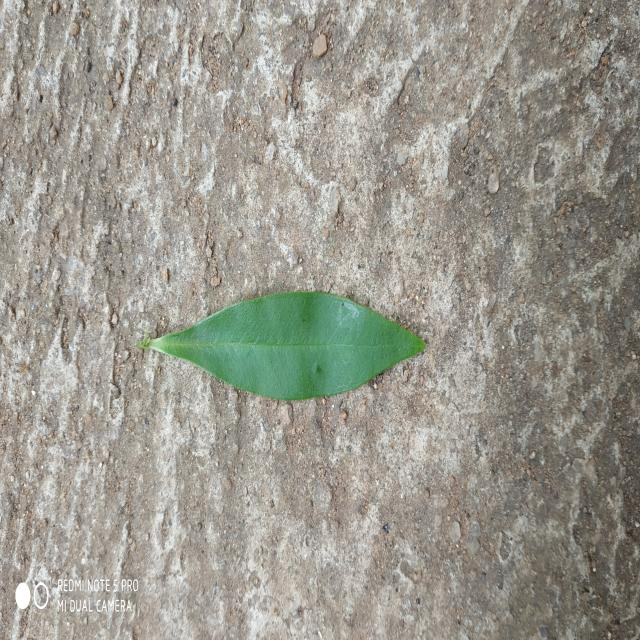nerale: (138, 291, 425, 402)
